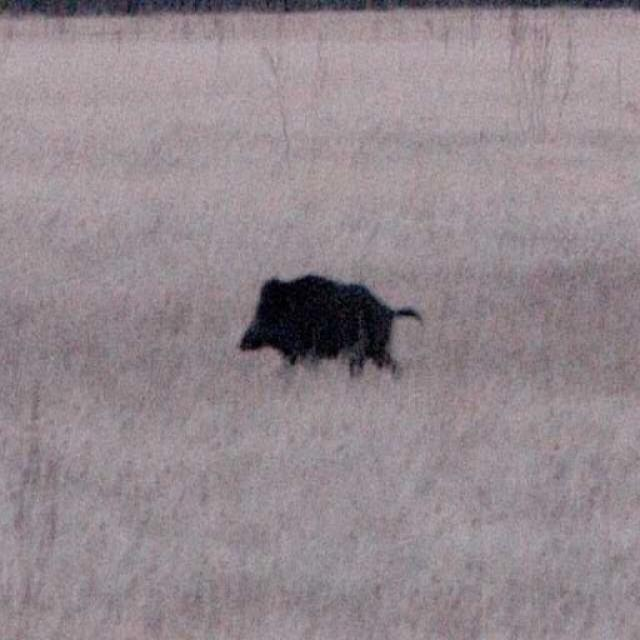pig: (223, 283, 441, 391)
